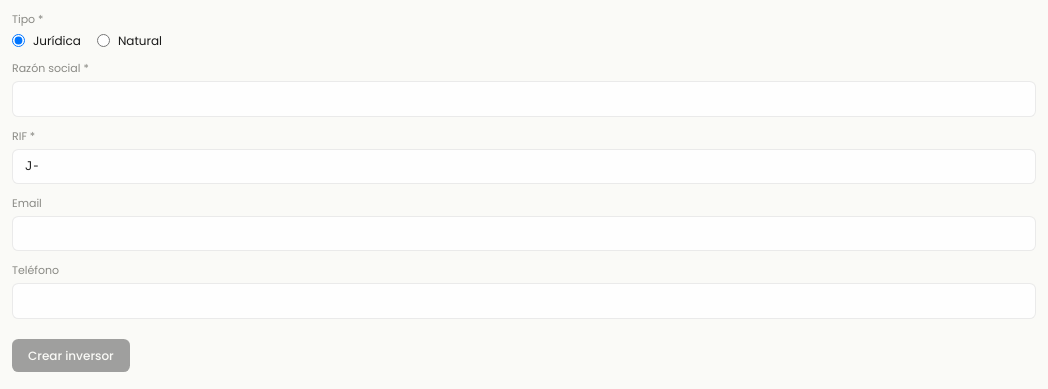
Test: <InvestorCreateForm /> › toggles to natural when clicking that radio
This screenshot has width=1048, height=389.
Click the radio button labelled "Natural": point(103, 41) [97,34,110,47]
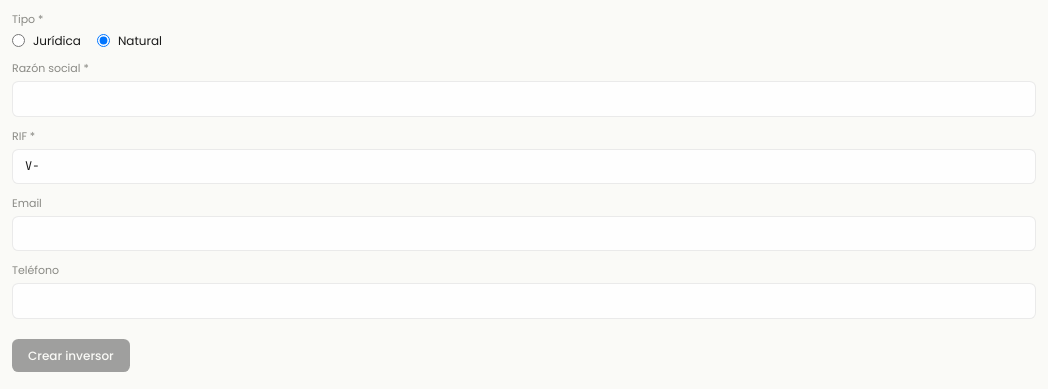
Check: the radio button labelled "Natural" is checked, box [97,34,110,47]
Check: the radio button labelled "Jurídica" is not checked, box [12,34,25,47]
